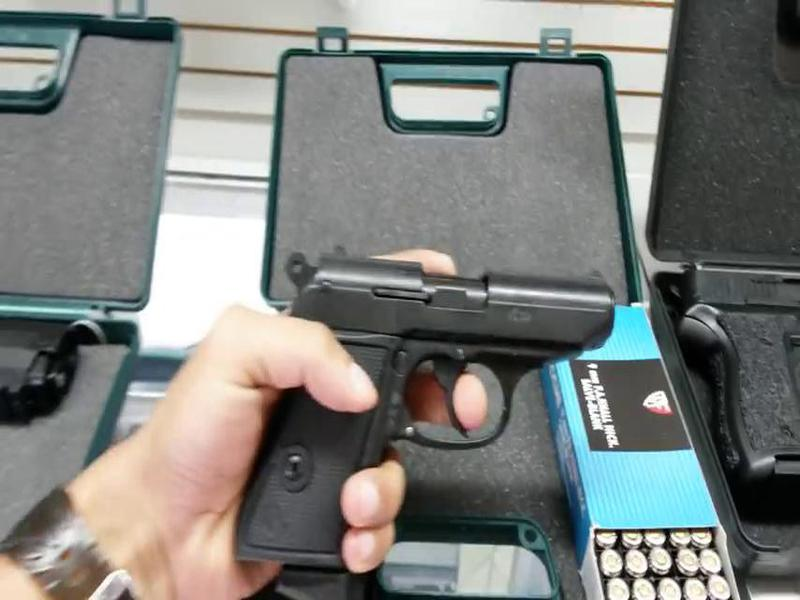Pistola: (227, 258, 630, 588)
